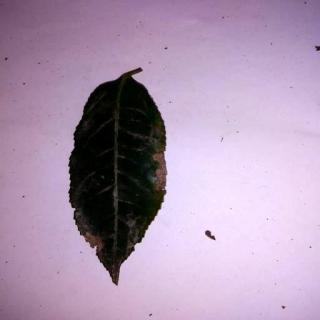Anthracnose: (72, 69, 170, 284)
